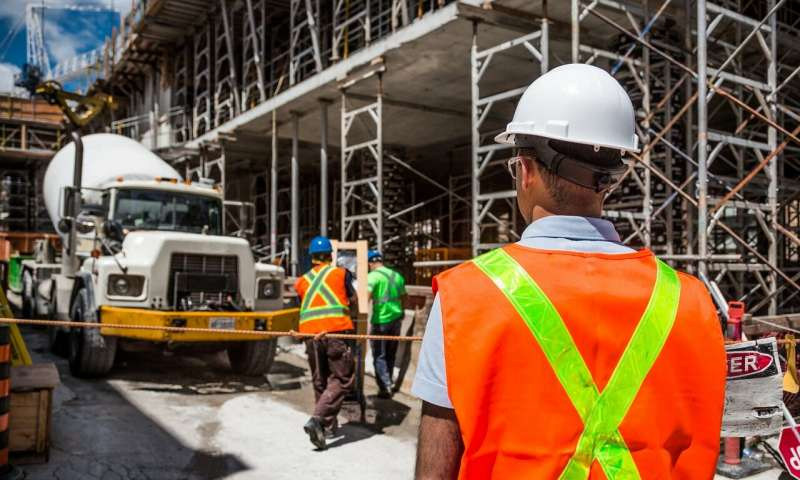hard hat: (494, 62, 639, 152), (307, 236, 333, 252), (368, 249, 378, 259)
high-vis: (432, 239, 727, 480), (294, 265, 352, 333), (369, 267, 405, 323)
